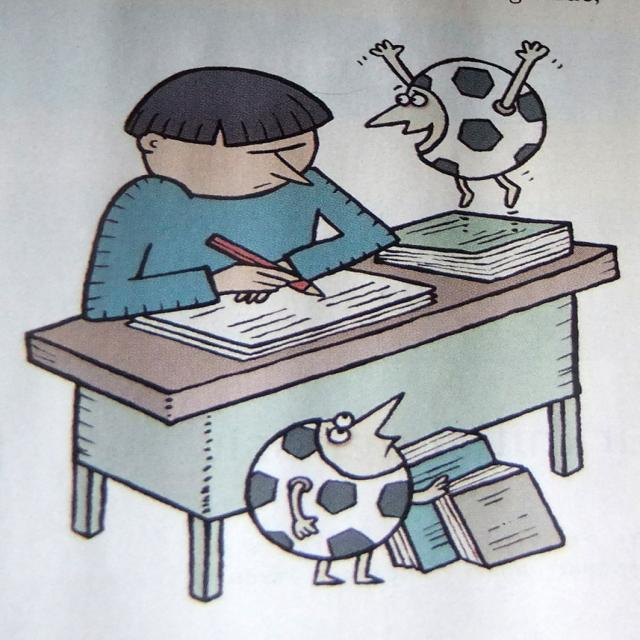desk: (25, 218, 622, 564)
